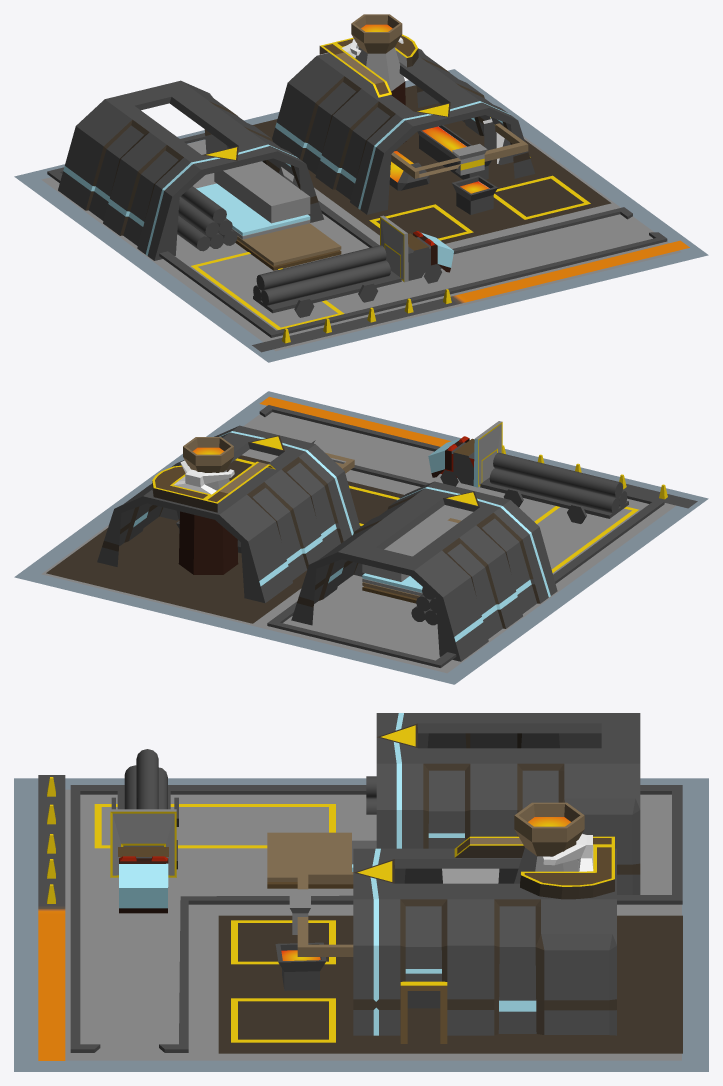
Rendered from metal_LV1.fbx.
3 renders of one model, top to bottom at view 1: azimuth 30°, elevation 25°; view 2: azimuth 150°, elevation 25°; view 3: azimuth 270°, elevation 25°, orthographic. The views are drawn at different scales.
Parts seen in each view (by area): view 1: metal_level 1; view 2: metal_level 1; view 3: metal_level 1.
Boxes of the visible parts, x1=… form: metal_level 1: x1=14, y1=14, x2=708, y2=362; metal_level 1: x1=14, y1=391, x2=708, y2=684; metal_level 1: x1=14, y1=713, x2=708, y2=1071.
Bounding box in the file's own units: 161 × 49.68 × 161.
